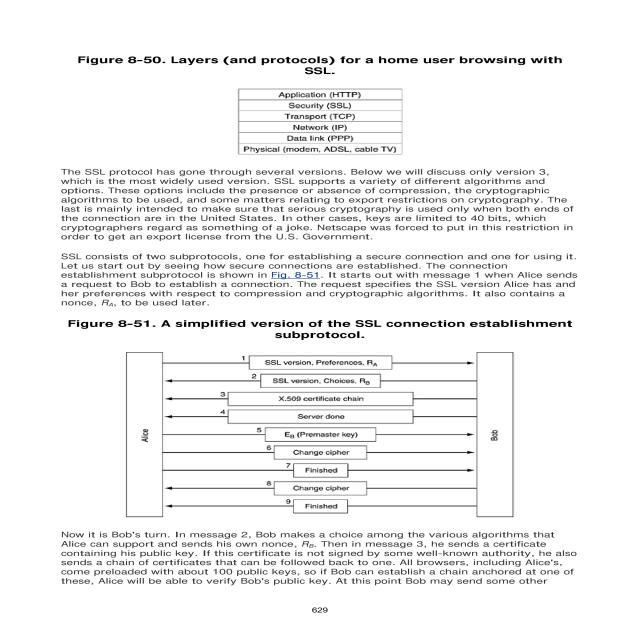diagram: (19, 312, 640, 526), (52, 46, 590, 162)
